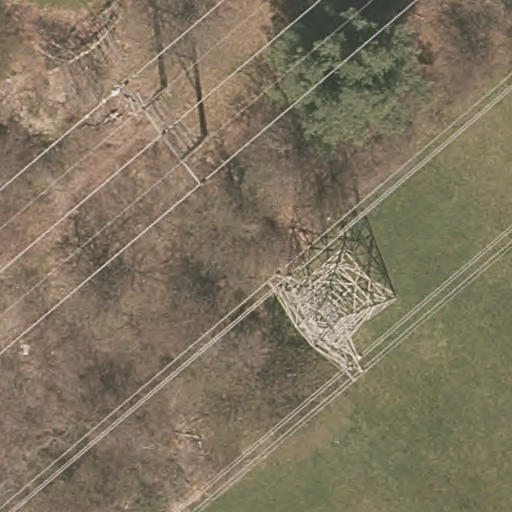DT: (94, 79, 139, 111)
TT: (269, 250, 397, 386)
